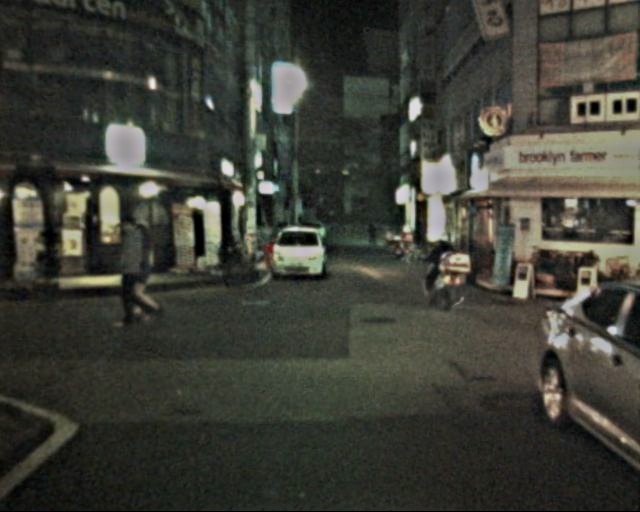person: (111, 214, 159, 327), (428, 238, 463, 313)
